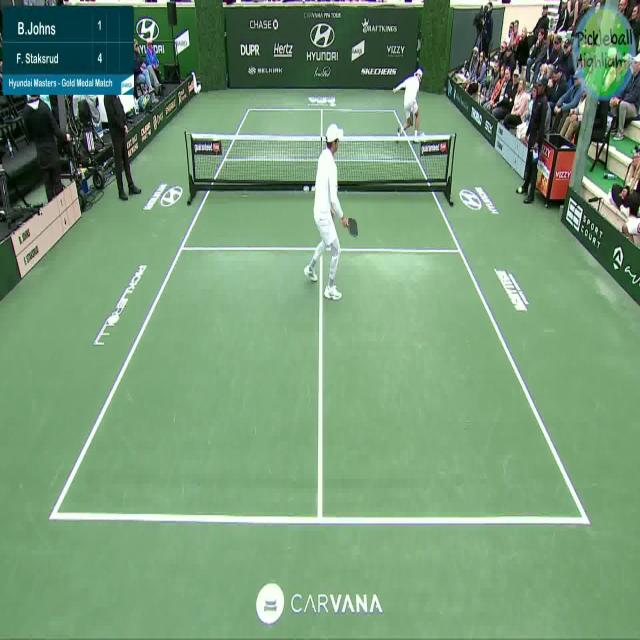Court: (55, 107, 584, 519)
ball: (516, 184, 526, 204)
